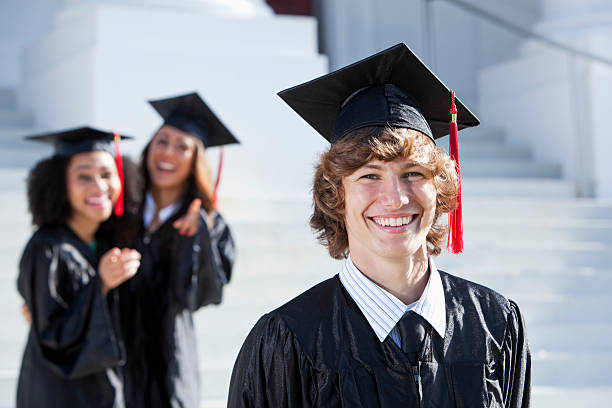face: (345, 162, 435, 258), (67, 159, 118, 221), (150, 131, 192, 187)
